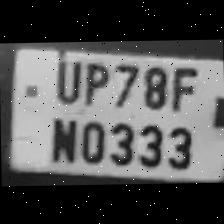0: (76, 113, 106, 162)
3: (161, 120, 194, 170), (132, 116, 163, 167), (105, 114, 134, 164)
7: (107, 58, 138, 108)
8: (138, 61, 168, 110)
F: (167, 60, 198, 110)
N: (44, 110, 77, 162)
P: (78, 54, 109, 106)
U: (47, 52, 82, 104)
